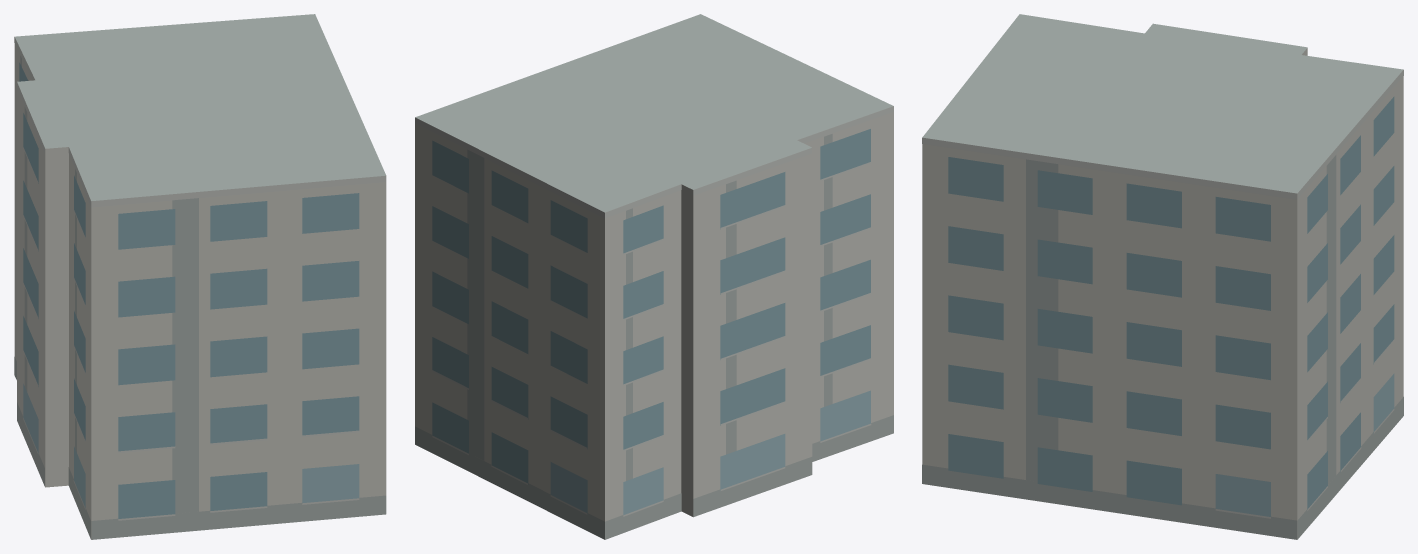
The model's file is survey-upis-32890005.glb.
3 renders of one model, left to right at view 1: azimuth 30°, elevation 25°; view 2: azimuth 150°, elevation 25°; view 3: azimuth 270°, elevation 25°, orthographic. The views are drawn at different scales.
Parts seen in each view (by area): view 1: survey-upis-32890005.tmp; view 2: survey-upis-32890005.tmp; view 3: survey-upis-32890005.tmp.
Boxes of the visible parts, bbox=[...] form: survey-upis-32890005.tmp: bbox=[14, 14, 386, 539]; survey-upis-32890005.tmp: bbox=[415, 14, 893, 539]; survey-upis-32890005.tmp: bbox=[922, 14, 1403, 539].
Bounding box in the file's own units: 14.91 × 13.4 × 16.9.
